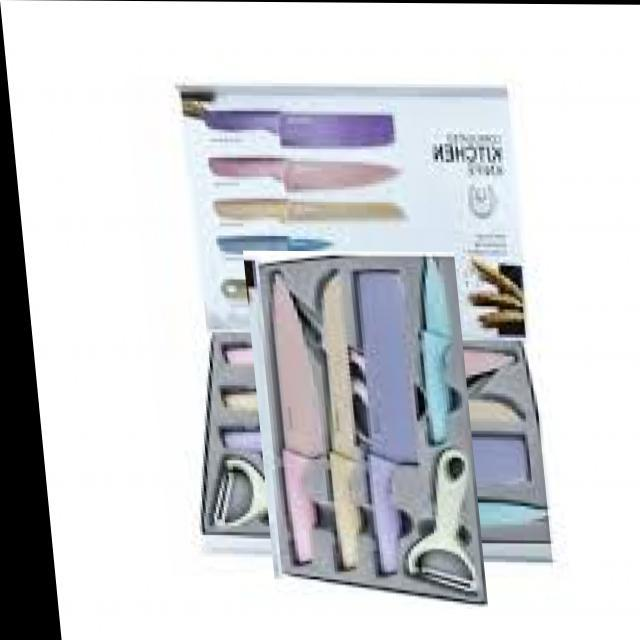knife: (354, 267, 420, 576), (271, 270, 327, 566), (321, 268, 361, 571), (202, 109, 396, 150), (208, 155, 402, 195), (417, 256, 455, 444), (213, 198, 409, 226)
